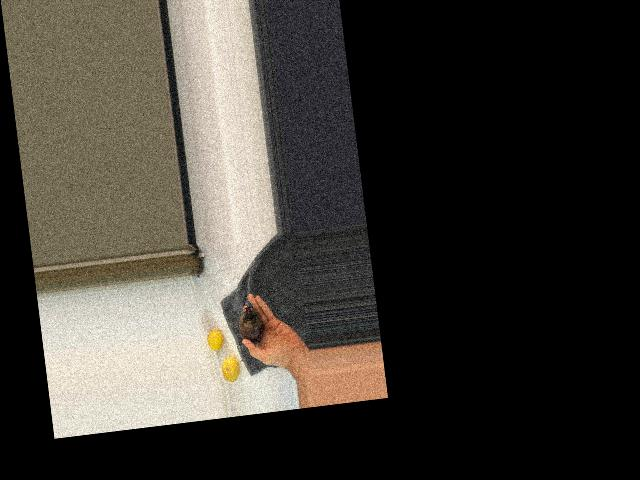beet: (234, 305, 268, 362)
